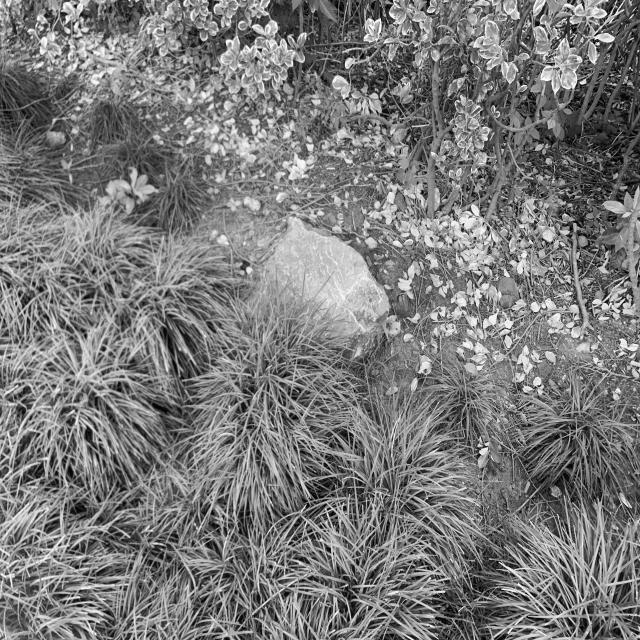Stone: (252, 216, 390, 358)
